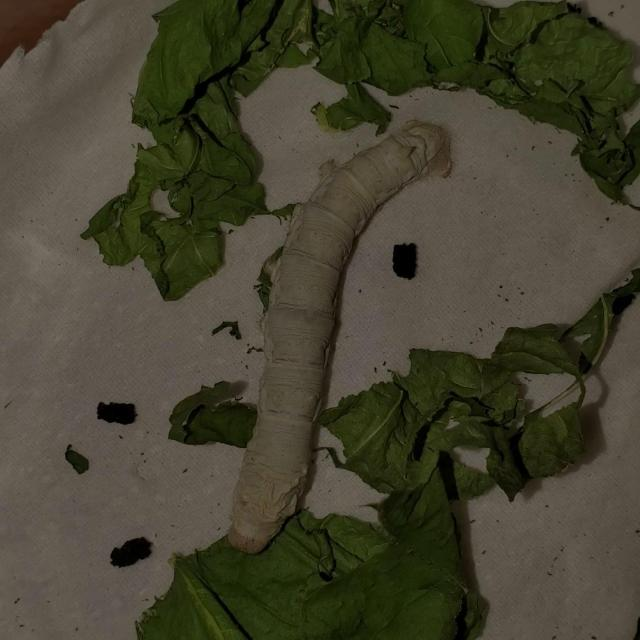Healthy: (221, 113, 459, 558)
